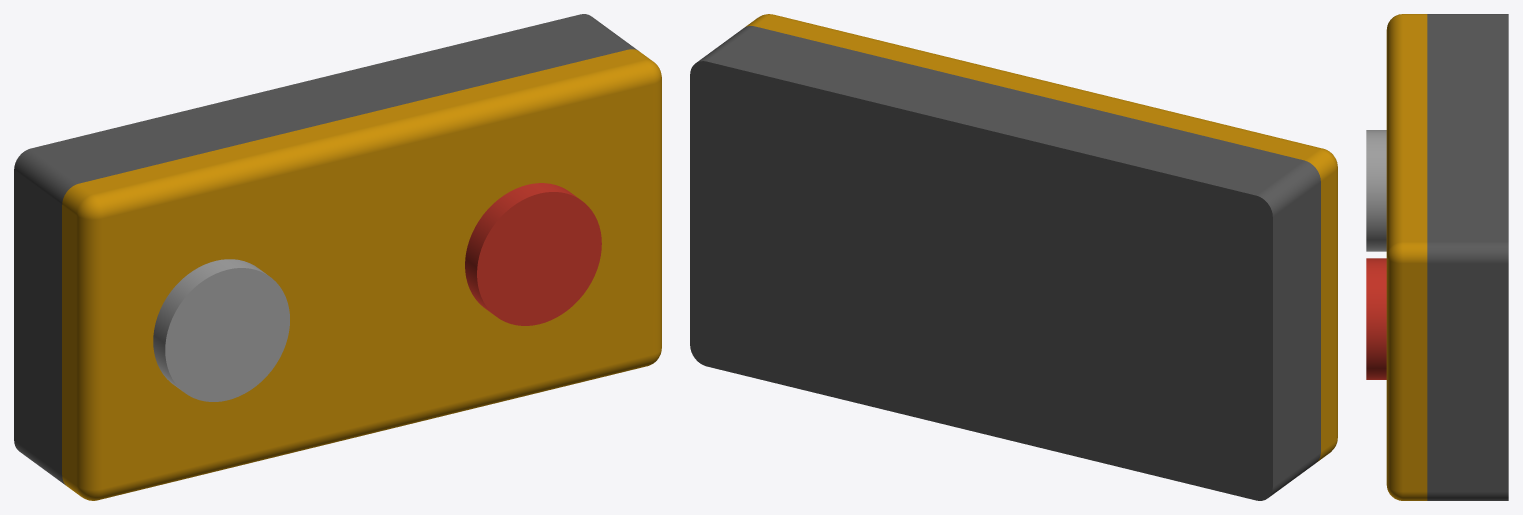
Rendered from Bouton_arret.fbx.
The picture shows the model from 3 angles, left to right: view 1: azimuth 30°, elevation 25°; view 2: azimuth 150°, elevation 25°; view 3: azimuth 270°, elevation 25°; orthographic projection. The views are drawn at different scales.
Parts seen in each view (by area): view 1: Body2, Body1, Body4, Body3; view 2: Body1, Body2; view 3: Body1, Body2, Body3, Body4.
Boxes of the visible parts, bbox=[...] form: Body2: bbox=[62, 49, 661, 500]; Body1: bbox=[14, 14, 638, 485]; Body4: bbox=[465, 183, 601, 325]; Body3: bbox=[153, 259, 289, 401]; Body1: bbox=[690, 26, 1320, 500]; Body2: bbox=[745, 14, 1337, 461]; Body1: bbox=[1427, 14, 1508, 500]; Body2: bbox=[1386, 14, 1427, 500]; Body3: bbox=[1366, 130, 1386, 251]; Body4: bbox=[1366, 258, 1386, 379].
Size of the model in its own units: 140 by 70 by 35.
